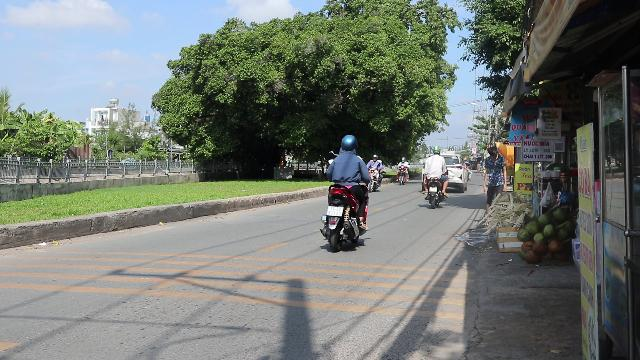helmet: (339, 134, 357, 152)
licenseplate: (327, 206, 343, 216)
motorcyclist: (318, 134, 372, 250)
